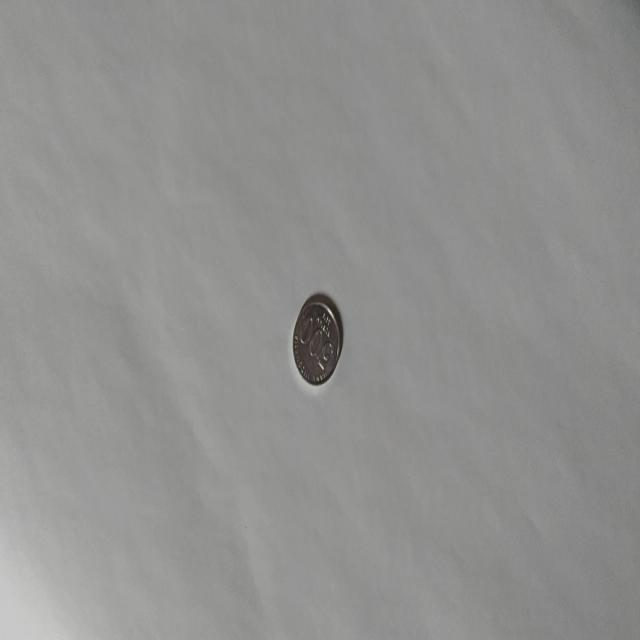lima ratus rupiah: (291, 293, 342, 387)
